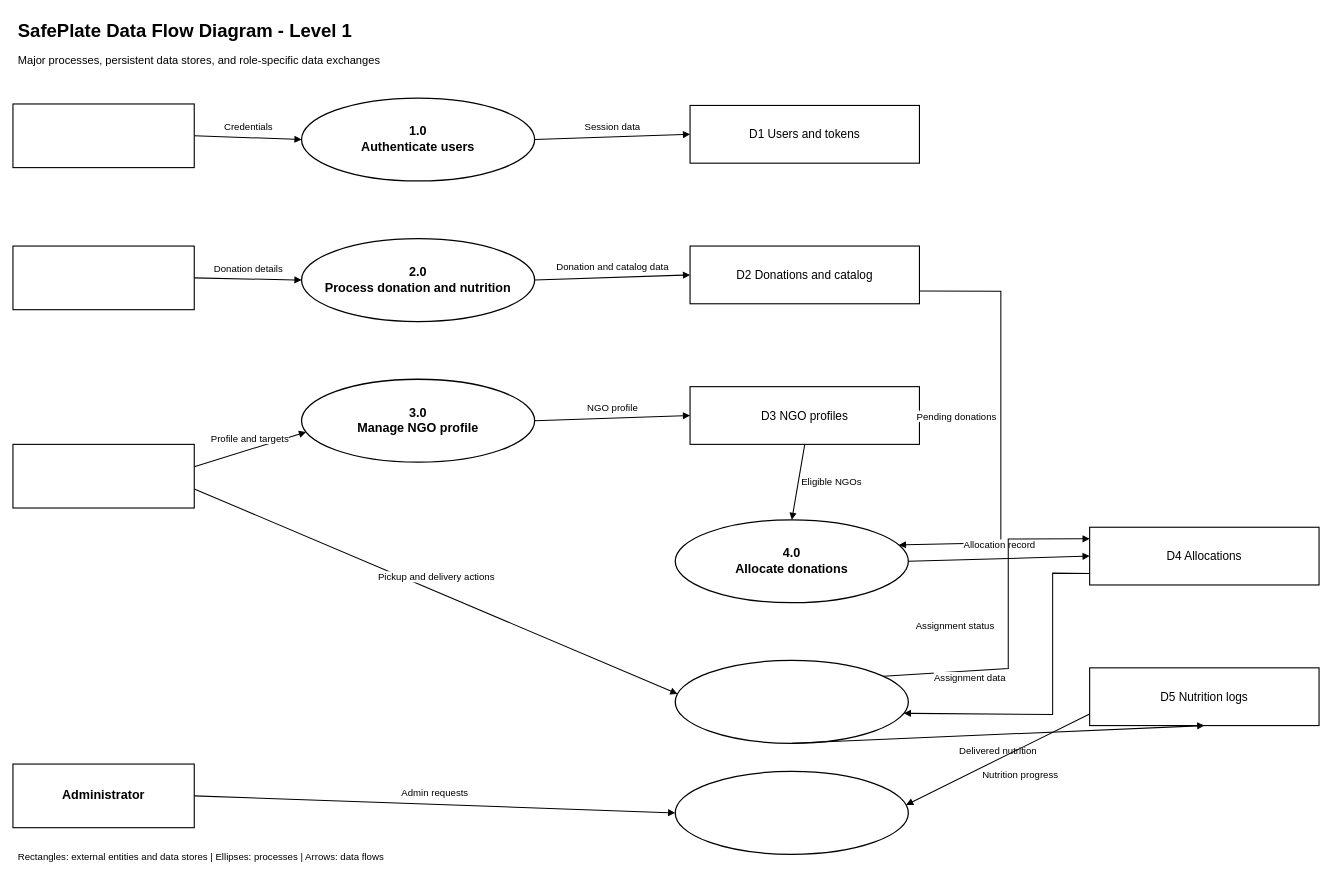
Some shapes in this 1333 by 880 pixel diagram are drawn without their labels. Here are the shapes that lost their labels. From the top down, the centre of each, then its label:
At point 103,135: "Donor / NGO / Administrator".
At point 103,277: "Donor".
At point 103,475: "NGO".
At point 791,701: "5.0 Fulfill assignment".
At point 791,812: "6.0 Report and administer".
